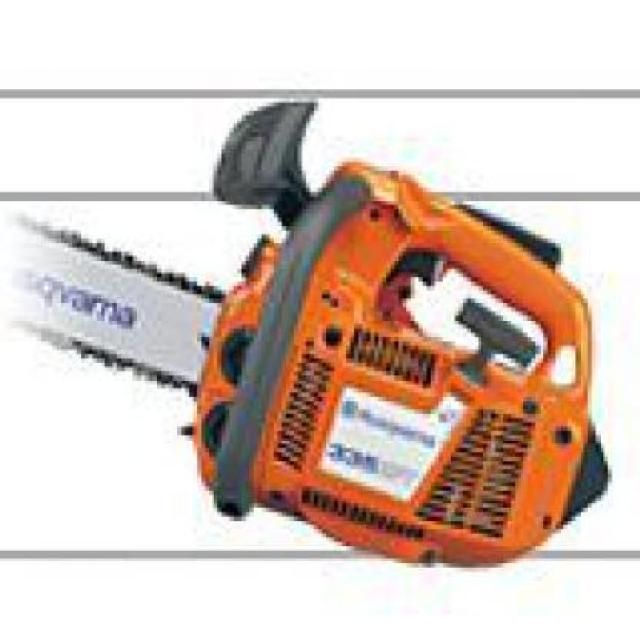Chainsaw: (0, 95, 617, 568)
